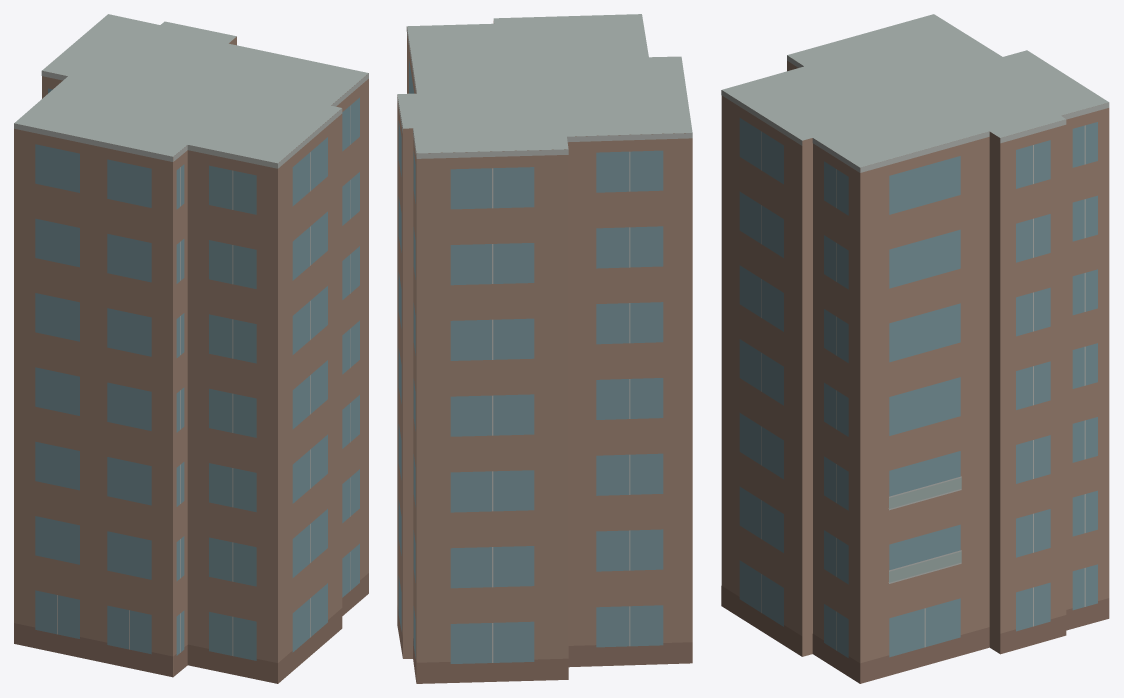
File: survey-upis-32887730.glb
3 views of the same model, side by side, from view 1: azimuth 30°, elevation 25°; view 2: azimuth 150°, elevation 25°; view 3: azimuth 270°, elevation 25° (orthographic). The views are drawn at different scales.
Visible parts, largest first — view 1: survey-upis-32887730.tmp; view 2: survey-upis-32887730.tmp; view 3: survey-upis-32887730.tmp.
Part boxes in pixels (<box>): survey-upis-32887730.tmp: <box>14,14,368,683</box>; survey-upis-32887730.tmp: <box>397,14,692,683</box>; survey-upis-32887730.tmp: <box>721,14,1109,683</box>.
Bounding box in the file's own units: 15.01 × 23.5 × 16.01.
